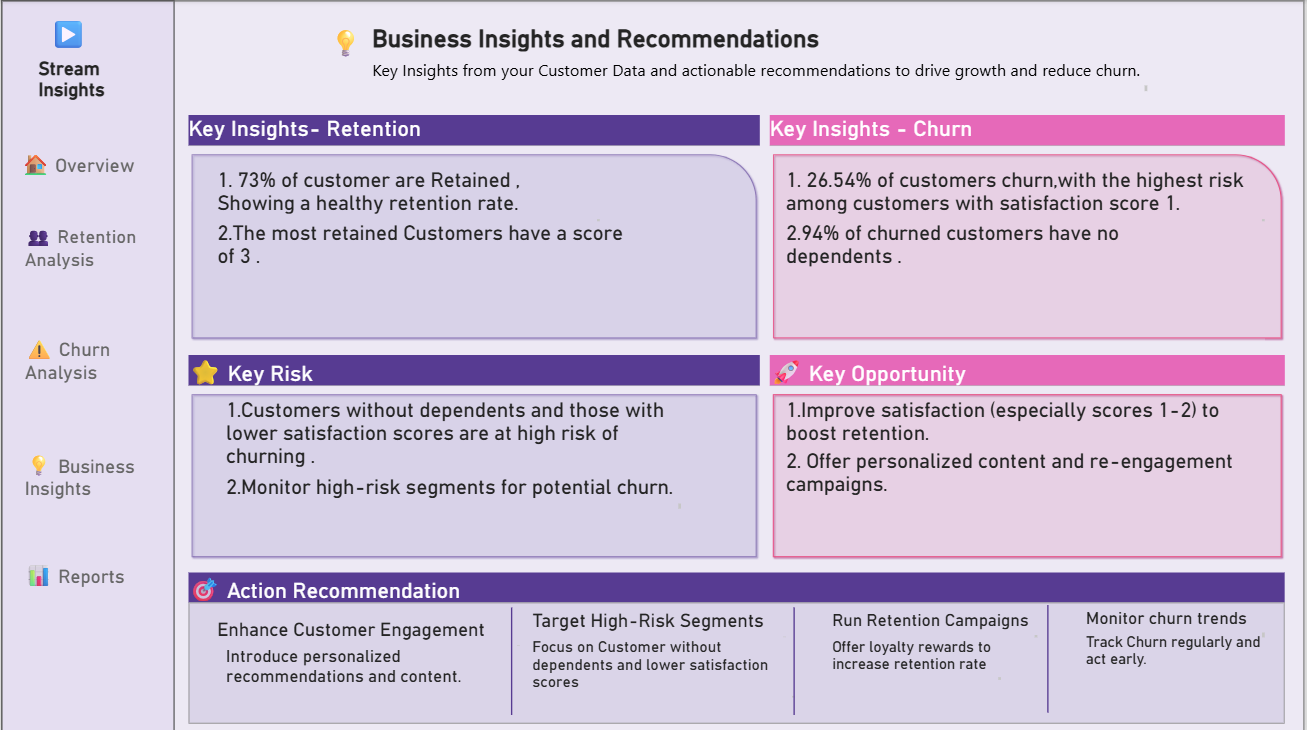

The page's visual inventory and layout, read from the dashboard file:
{"tool":"powerbi","page":{"name":"Business Insights & Recommendation ","canvas":[3840,2160],"ordinal":2},"visuals":[{"type":"shape","box":[0,0,3839.3,2160.7],"z":2},{"type":"textbox","title":"Business Insights and Recommendations","box":[1093.3,69.9,2282.2,198.8],"z":3},{"type":"textbox","title":"💡","box":[960.7,69.9,150.9,117.8],"z":4},{"type":"shape","title":"Key Insights- Retention","box":[552.2,338.7,1682.2,666.3],"z":5},{"type":"shape","title":"Key Insights - Churn","box":[2263.8,338.7,1516.6,666.3],"z":6},{"type":"shape","title":"⭐ Key Risk","box":[552.2,1045.4,1682.2,603.7],"z":7},{"type":"shape","title":"🚀 Key Opportunity","box":[2263.8,1045.4,1516.6,603.7],"z":8},{"type":"shape","title":"🎯 Action Recommendation","box":[552.2,1685.9,3228.2,445.4],"z":9},{"type":"textbox","title":"1. 73% of customer are Retained , Showing a healthy retention rate.","box":[636.8,493.3,1126.4,158.3],"z":10},{"type":"textbox","title":"2.The most retained Customers have a score of 3 .","box":[636.8,651.5,1203.7,187.7],"z":11},{"type":"textbox","title":"1. 26.54% of customers churn,with the highest risk among customers with satisfaction score 1.","box":[2311.7,493.3,1409.8,158.3],"z":12},{"type":"textbox","title":"2.94% of churned customers have no dependents .","box":[2311.7,651.5,1185.3,132.5],"z":13},{"type":"textbox","title":"1.Customers without dependents and those with lower satisfaction scores are at high risk of churning .","box":[662.6,1170.6,1358.3,250.3],"z":14},{"type":"textbox","title":"2.Monitor high-risk segments for potential churn.","box":[662.6,1398.8,1339.9,99.4],"z":15},{"type":"textbox","title":"1.Improve satisfaction (especially scores 1-2) to boost retention.","box":[2311.7,1170.6,1420.9,150.9],"z":16},{"type":"textbox","title":"2. Offer personalized content and re-engagement campaigns.","box":[2311.7,1321.5,1420.9,150.9],"z":17},{"type":"textbox","title":"Enhance Customer Engagement","box":[636.8,1822.1,890.8,81],"z":18},{"type":"textbox","title":"Introduce personalized recommendations and content.","box":[662.6,1903.1,750.9,176.7],"z":19},{"type":"textbox","title":"Target High-Risk Segments","box":[1564.4,1796.3,747.2,81],"z":20},{"type":"textbox","title":"Focus on Customer without dependents and lower satisfaction scores","box":[1564.4,1877.3,773,176.7],"z":21},{"type":"textbox","title":"Run Retention Campaigns ","box":[2447.9,1796.3,603.7,81],"z":22},{"type":"textbox","title":"Offer loyalty rewards to increase retention rate","box":[2447.9,1877.3,496.9,125.2],"z":23},{"type":"textbox","title":"Monitor churn trends","box":[3195.1,1789,526.4,88.3],"z":24},{"type":"textbox","title":"Track Churn regularly and act early.","box":[3195.1,1862.6,537.4,139.9],"z":25},{"type":"shape","box":[0,0,511.7,2160.7],"z":26},{"type":"textbox","title":"🏠 Overview","box":[58.9,438,452.8,110.4],"z":27},{"type":"textbox","title":"👥 Retention Analysis","box":[69.9,651.5,375.5,187.7],"z":28},{"type":"textbox","title":"⚠️ Churn Analysis","box":[69.9,979.1,375.5,191.4],"z":29},{"type":"textbox","title":"💡 Business Insights","box":[69.9,1325.2,342.3,173],"z":30},{"type":"textbox","title":"📊 Reports","box":[69.9,1649.1,342.3,117.8],"z":31},{"type":"textbox","title":"▶️","box":[143.6,44.2,114.1,125.2],"z":32},{"type":"textbox","title":"Stream         Insights","box":[110.4,169.3,301.8,169.3],"z":33},{"type":"shape","box":[1443,1789,121.5,316.6],"z":34},{"type":"shape","box":[2274.9,1789,121.5,316.6],"z":35},{"type":"shape","box":[3022.1,1781.6,121.5,316.6],"z":36}]}

Visuals, with their boxes on the page's 3840x2160 design canvas (x1, y1, x2, y2). These are canvas units, not pixel positions in the 1307x730 screenshot, which may show the page scaled, cropped or inside an application window:
shape: (left=0, top=0, right=3839, bottom=2161)
"Business Insights and Recommendations" textbox: (left=1093, top=70, right=3376, bottom=269)
"💡" textbox: (left=961, top=70, right=1112, bottom=188)
"Key Insights- Retention" shape: (left=552, top=339, right=2234, bottom=1005)
"Key Insights - Churn" shape: (left=2264, top=339, right=3780, bottom=1005)
"⭐ Key Risk" shape: (left=552, top=1045, right=2234, bottom=1649)
"🚀 Key Opportunity" shape: (left=2264, top=1045, right=3780, bottom=1649)
"🎯 Action Recommendation" shape: (left=552, top=1686, right=3780, bottom=2131)
"1. 73% of customer are Retained , Showing a healthy retention rate." textbox: (left=637, top=493, right=1763, bottom=652)
"2.The most retained Customers have a score of 3 ." textbox: (left=637, top=652, right=1840, bottom=839)
"1. 26.54% of customers churn,with the highest risk among customers with satisfaction score 1." textbox: (left=2312, top=493, right=3722, bottom=652)
"2.94% of churned customers have no dependents ." textbox: (left=2312, top=652, right=3497, bottom=784)
"1.Customers without dependents and those with lower satisfaction scores are at high risk of churning ." textbox: (left=663, top=1171, right=2021, bottom=1421)
"2.Monitor high-risk segments for potential churn." textbox: (left=663, top=1399, right=2002, bottom=1498)
"1.Improve satisfaction (especially scores 1-2) to boost retention." textbox: (left=2312, top=1171, right=3733, bottom=1322)
"2. Offer personalized content and re-engagement campaigns." textbox: (left=2312, top=1322, right=3733, bottom=1472)
"Enhance Customer Engagement" textbox: (left=637, top=1822, right=1528, bottom=1903)
"Introduce personalized recommendations and content." textbox: (left=663, top=1903, right=1414, bottom=2080)
"Target High-Risk Segments" textbox: (left=1564, top=1796, right=2312, bottom=1877)
"Focus on Customer without dependents and lower satisfaction scores" textbox: (left=1564, top=1877, right=2337, bottom=2054)
"Run Retention Campaigns " textbox: (left=2448, top=1796, right=3052, bottom=1877)
"Offer loyalty rewards to increase retention rate" textbox: (left=2448, top=1877, right=2945, bottom=2002)
"Monitor churn trends" textbox: (left=3195, top=1789, right=3722, bottom=1877)
"Track Churn regularly and act early." textbox: (left=3195, top=1863, right=3732, bottom=2002)
shape: (left=0, top=0, right=512, bottom=2161)
"🏠 Overview" textbox: (left=59, top=438, right=512, bottom=548)
"👥 Retention Analysis" textbox: (left=70, top=652, right=445, bottom=839)
"⚠️ Churn Analysis" textbox: (left=70, top=979, right=445, bottom=1170)
"💡 Business Insights" textbox: (left=70, top=1325, right=412, bottom=1498)
"📊 Reports" textbox: (left=70, top=1649, right=412, bottom=1767)
"▶️" textbox: (left=144, top=44, right=258, bottom=169)
"Stream         Insights" textbox: (left=110, top=169, right=412, bottom=339)
shape: (left=1443, top=1789, right=1564, bottom=2106)
shape: (left=2275, top=1789, right=2396, bottom=2106)
shape: (left=3022, top=1782, right=3144, bottom=2098)
